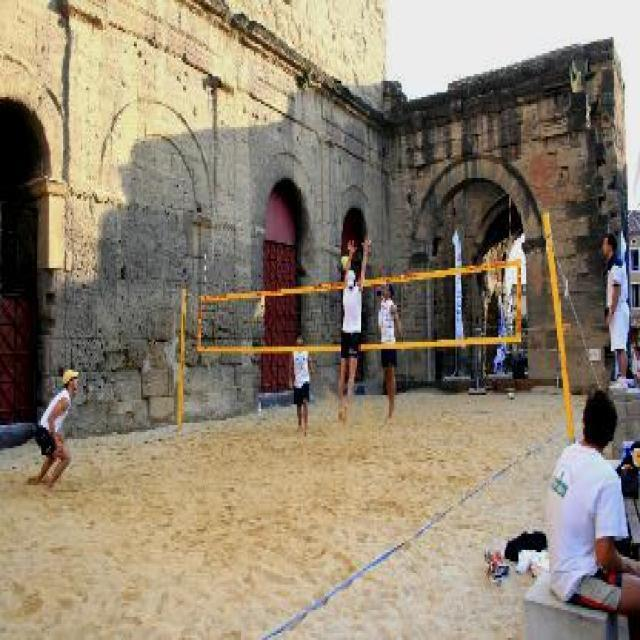volleyball: (338, 257, 348, 268)
